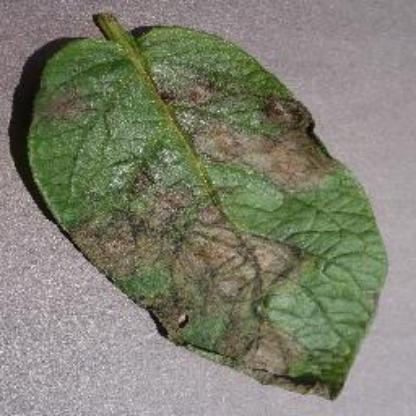Late-Blight: (24, 32, 376, 404)
